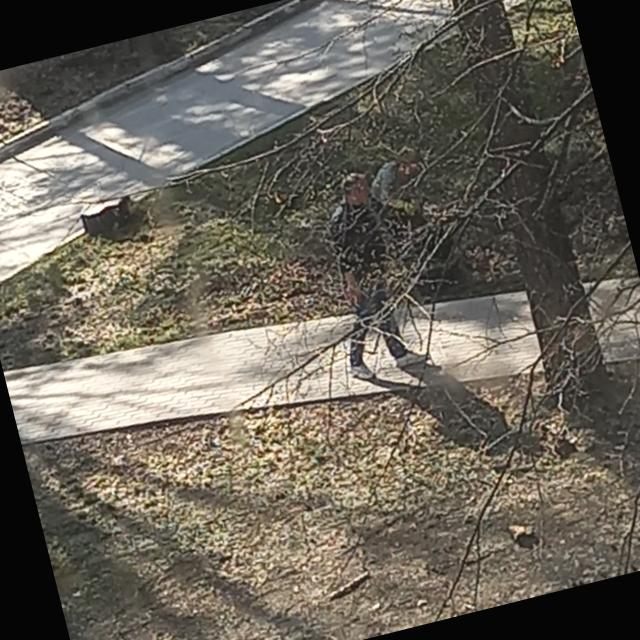person: (303, 165, 428, 382)
